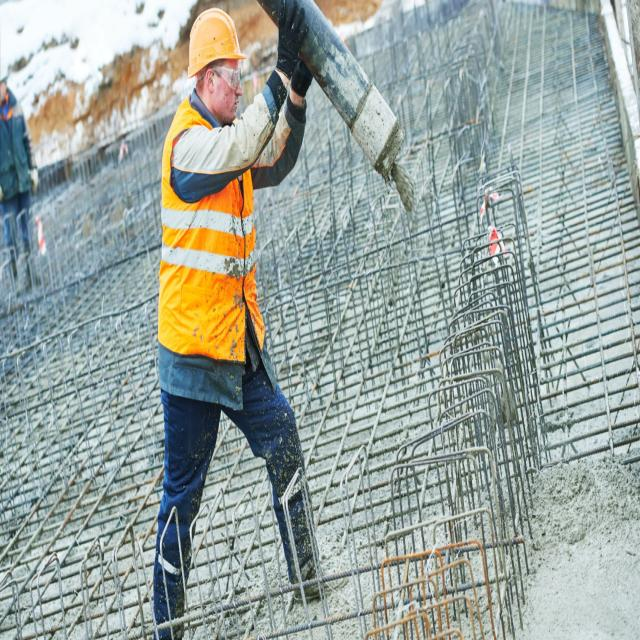Gloves: (275, 0, 321, 104)
Hard Hat: (184, 1, 248, 76)
Reflective Vest: (156, 97, 270, 363)
Safety Glasses: (195, 64, 242, 94)
